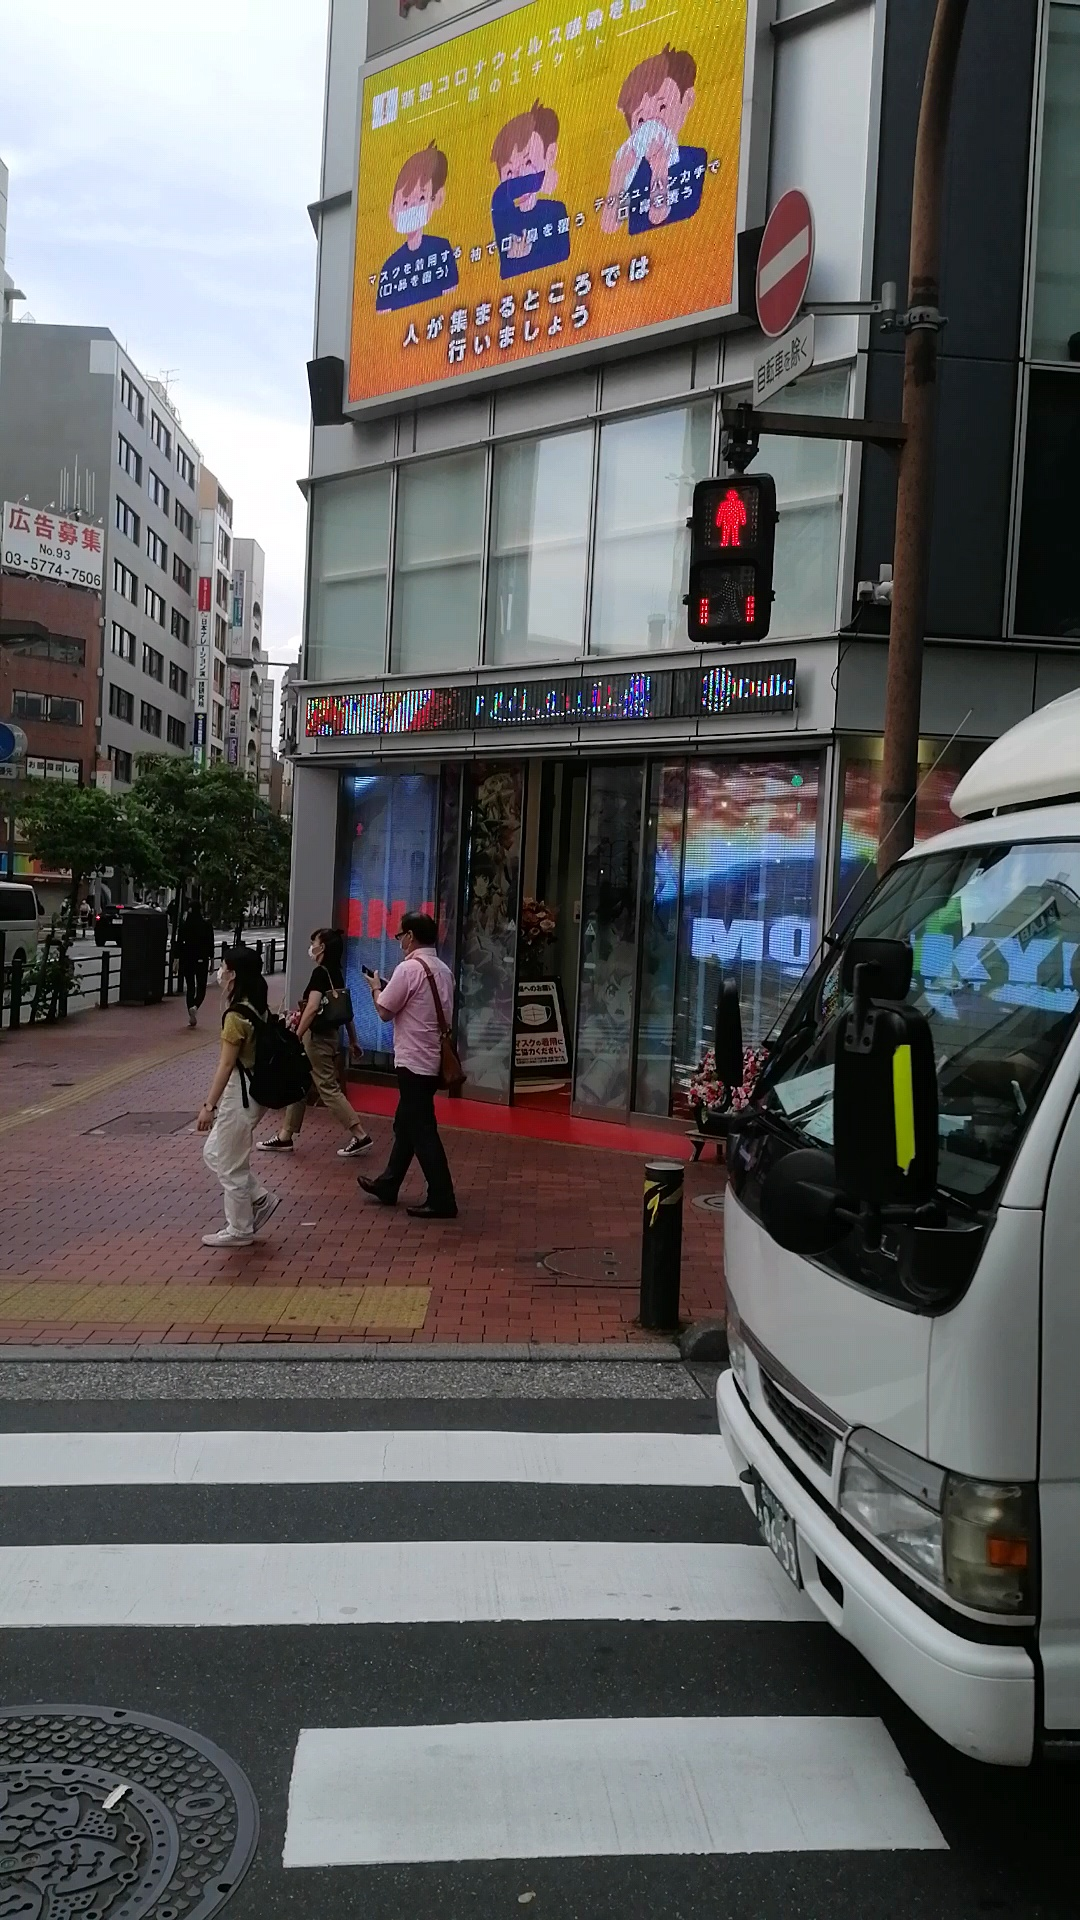red: (692, 475, 774, 642)
